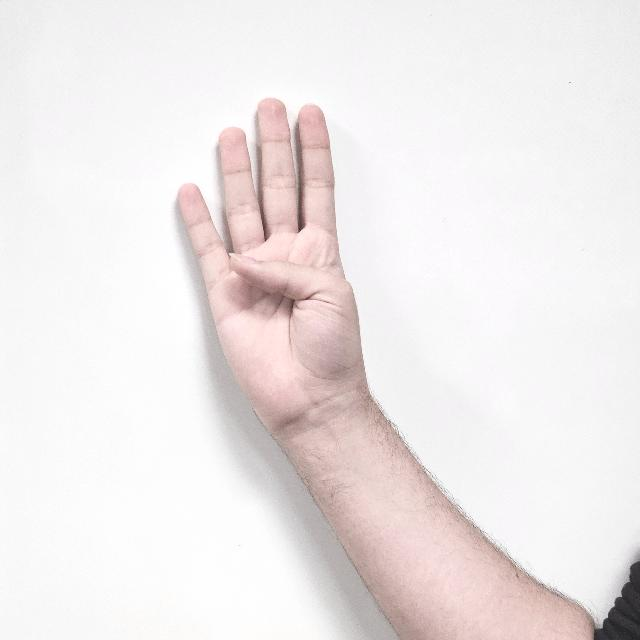Baixo: (149, 86, 377, 437)
